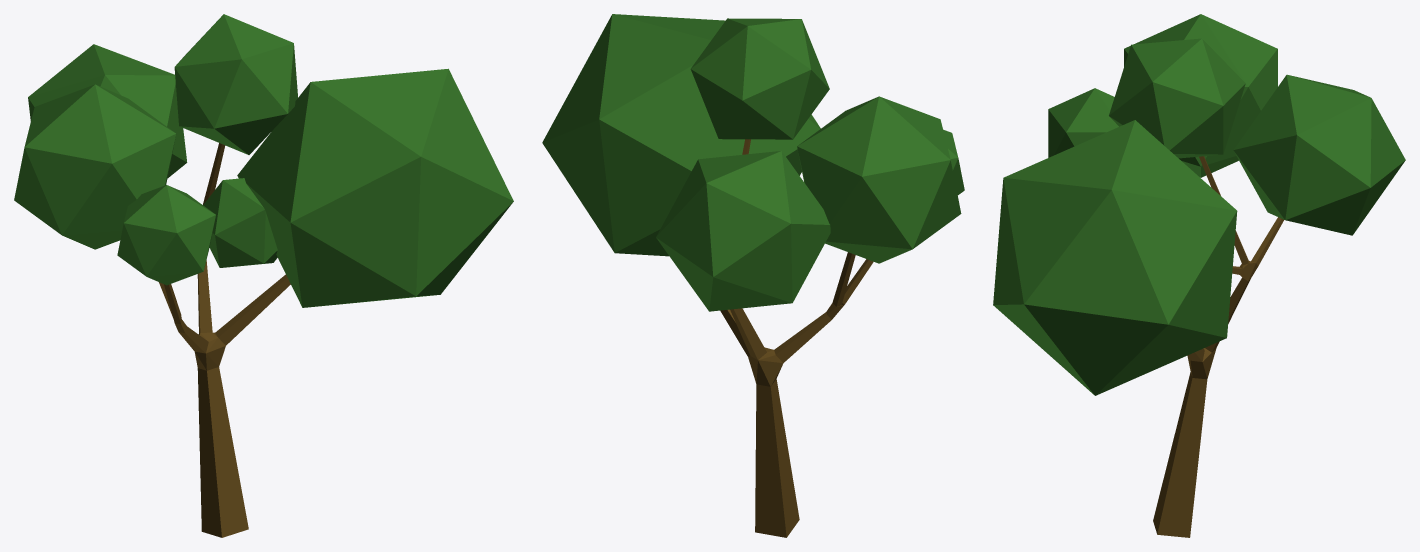
Rendered from TREE2 (1).fbx.
3 renders of one model, left to right at view 1: azimuth 30°, elevation 25°; view 2: azimuth 150°, elevation 25°; view 3: azimuth 270°, elevation 25°, orthographic. The views are drawn at different scales.
Parts seen in each view (by area): view 1: Icosphere.010, Icosphere.006, Icosphere.009, Cube.001, Icosphere.007, Icosphere.008, Icosphere.011; view 2: Icosphere.010, Icosphere.008, Icosphere.006, Icosphere.009, Cube.001, Icosphere.007; view 3: Icosphere.010, Icosphere.008, Icosphere.009, Cube.001, Icosphere.006, Icosphere.007.
Part boxes in pixels (x1,y1,x2,y2): Icosphere.010: (237,68,513,307); Icosphere.006: (14,84,176,249); Icosphere.009: (174,14,297,154); Cube.001: (159,143,290,537); Icosphere.007: (117,185,215,285); Icosphere.008: (28,44,187,178); Icosphere.011: (203,178,277,267); Icosphere.010: (542,14,820,256); Icosphere.008: (656,151,830,311); Icosphere.006: (797,96,961,263); Icosphere.009: (690,18,829,139); Cube.001: (720,139,873,537); Icosphere.007: (943,129,964,195); Icosphere.010: (993,120,1237,395); Icosphere.008: (1233,74,1405,235); Icosphere.009: (1109,38,1245,158); Cube.001: (1153,156,1283,537); Icosphere.006: (1124,14,1277,177); Icosphere.007: (1048,88,1118,157).
Size of the model in its own units: 917 by 1053 by 788.
